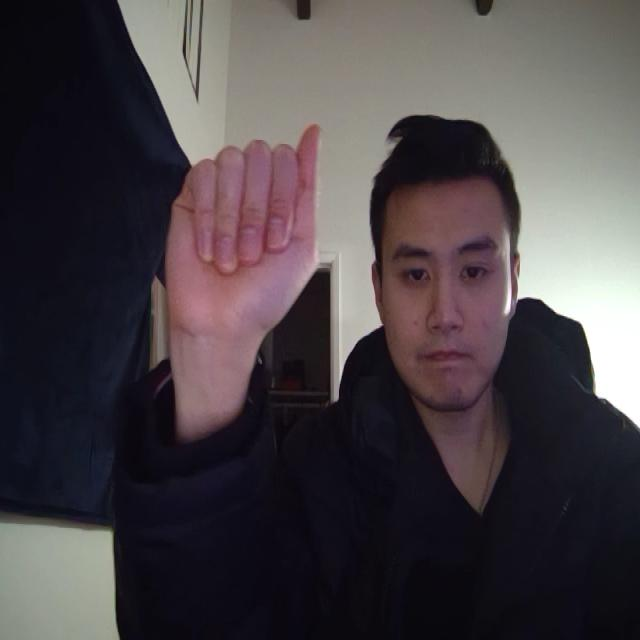A: (141, 70, 349, 433)
